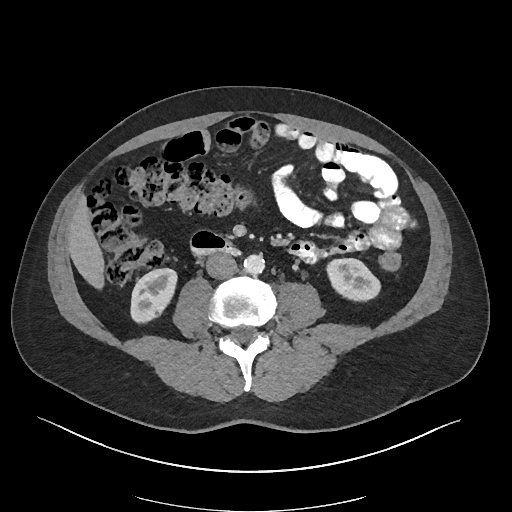Lesion: (152, 308, 161, 318)
